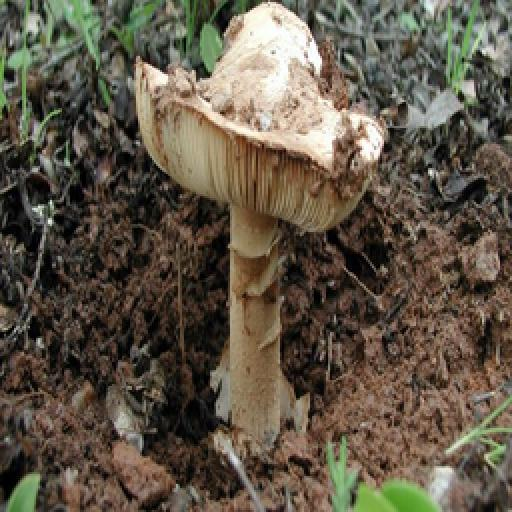mushrooms: (126, 2, 389, 450)
